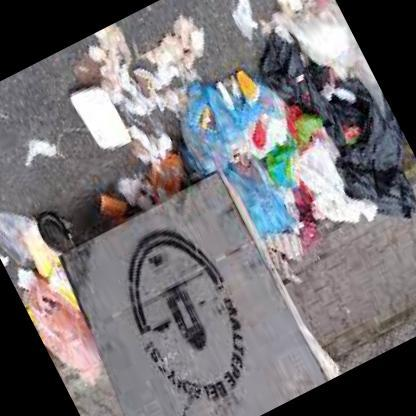Garbage: (196, 30, 415, 275), (56, 0, 280, 215), (258, 0, 413, 184), (0, 197, 109, 389)
